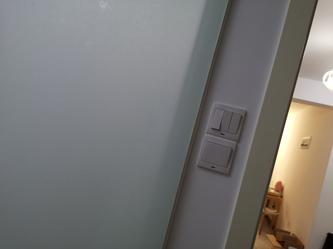switch: (204, 140, 233, 169), (214, 109, 237, 132)
